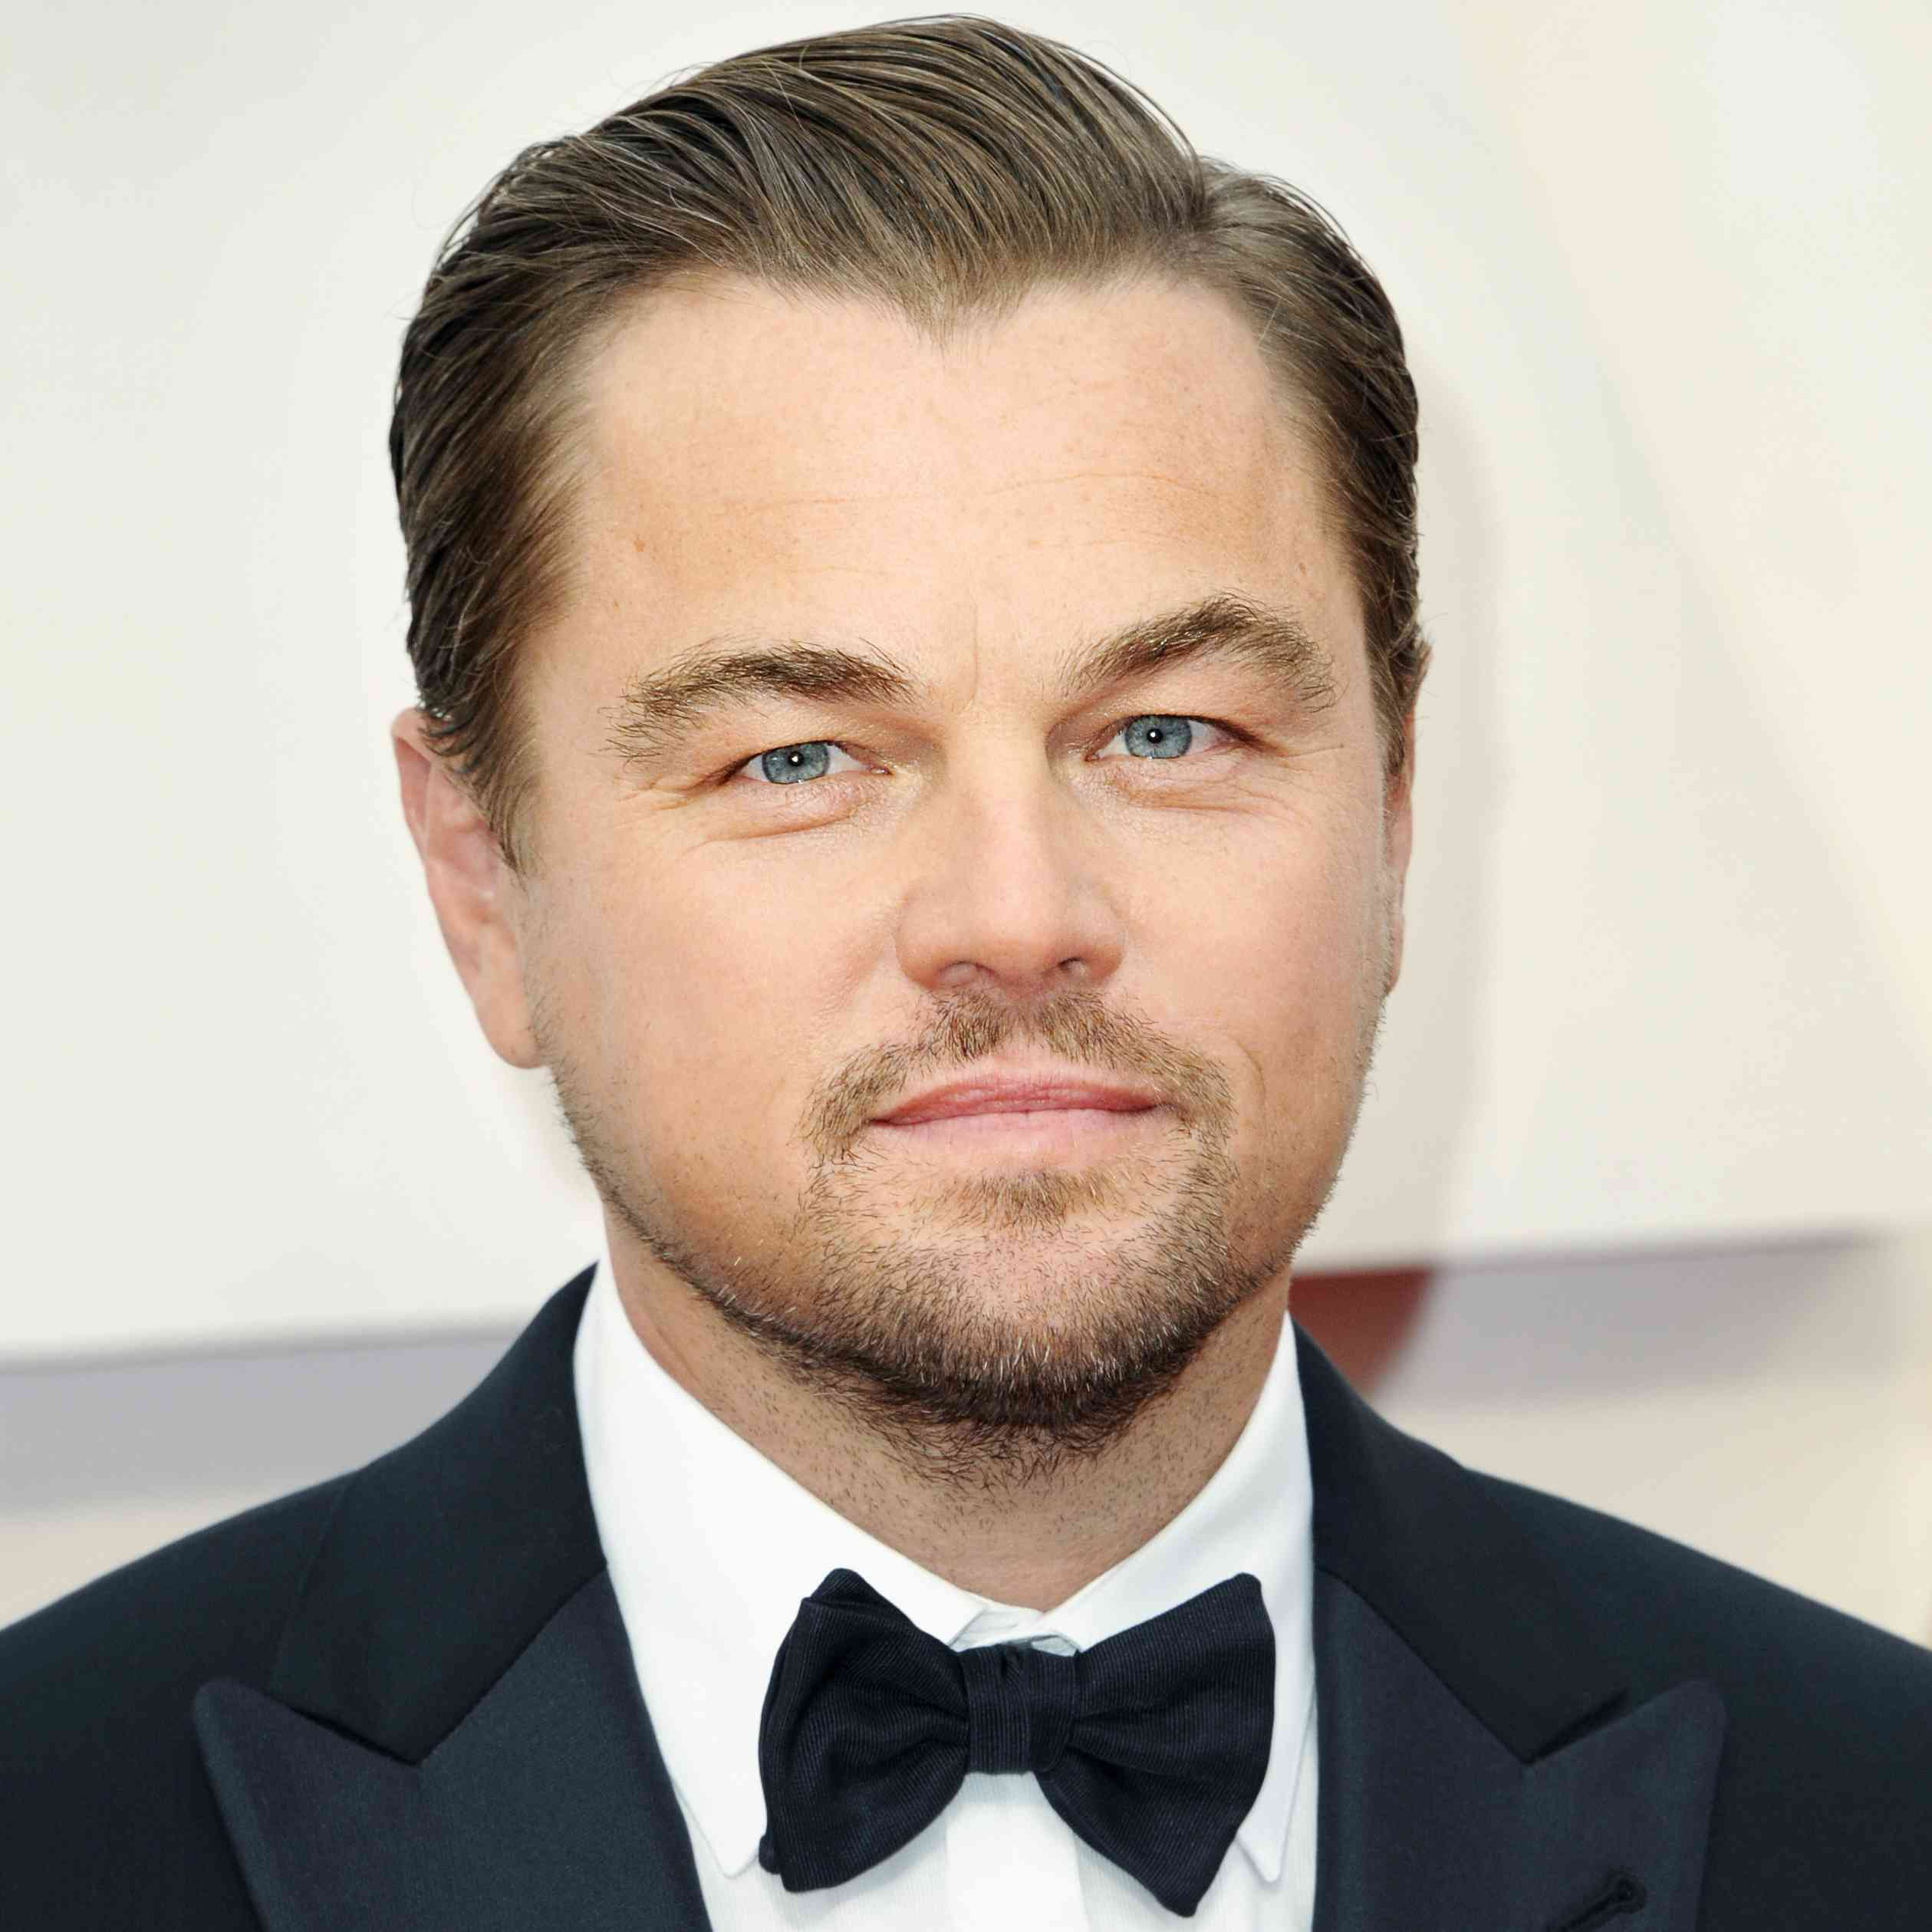man: (388, 25, 1418, 1419)
